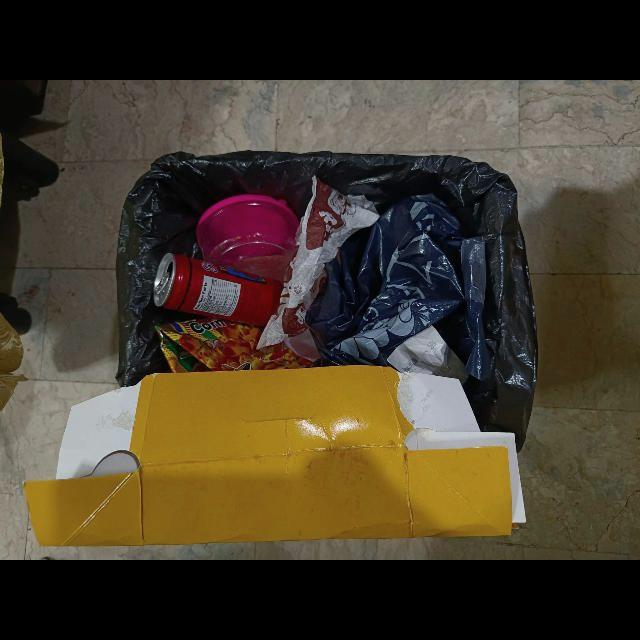aluminum: (153, 253, 282, 327)
cardboard: (22, 365, 527, 548)
food_wrapper: (155, 319, 314, 373)
glass_bottle: (195, 195, 302, 286)
paper: (257, 176, 380, 365)
plastic_bag: (305, 194, 490, 385)
